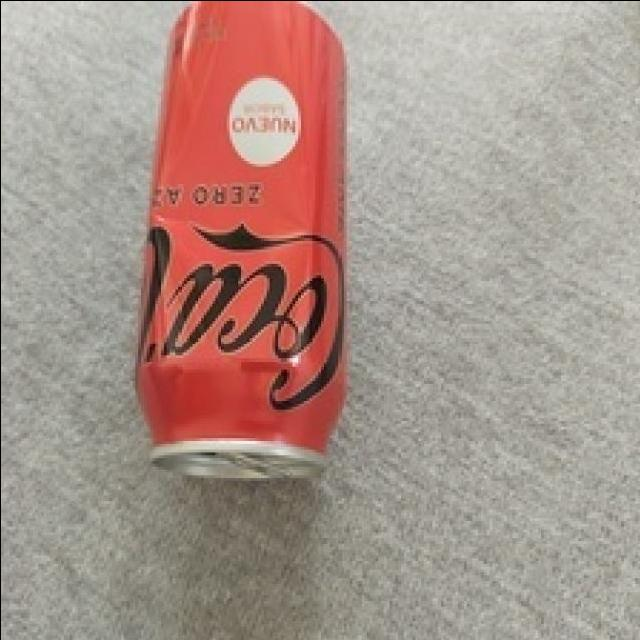can: (134, 0, 348, 481)
